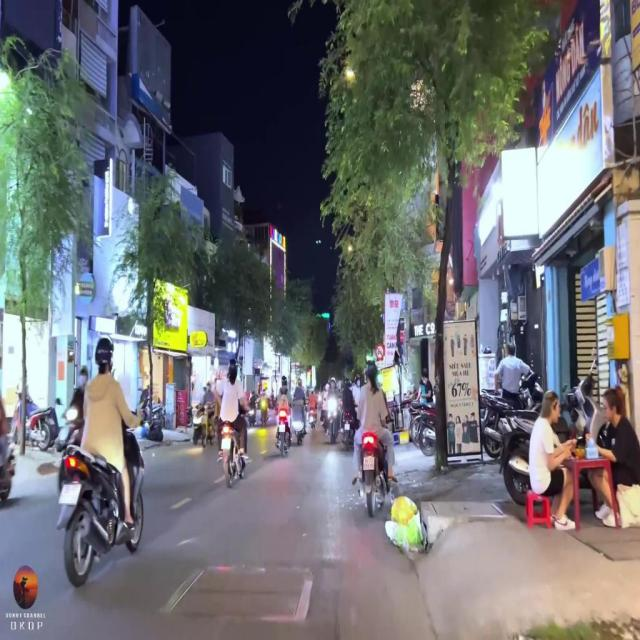cam_o_to: (375, 343, 384, 360)
khac: (376, 361, 384, 367)
